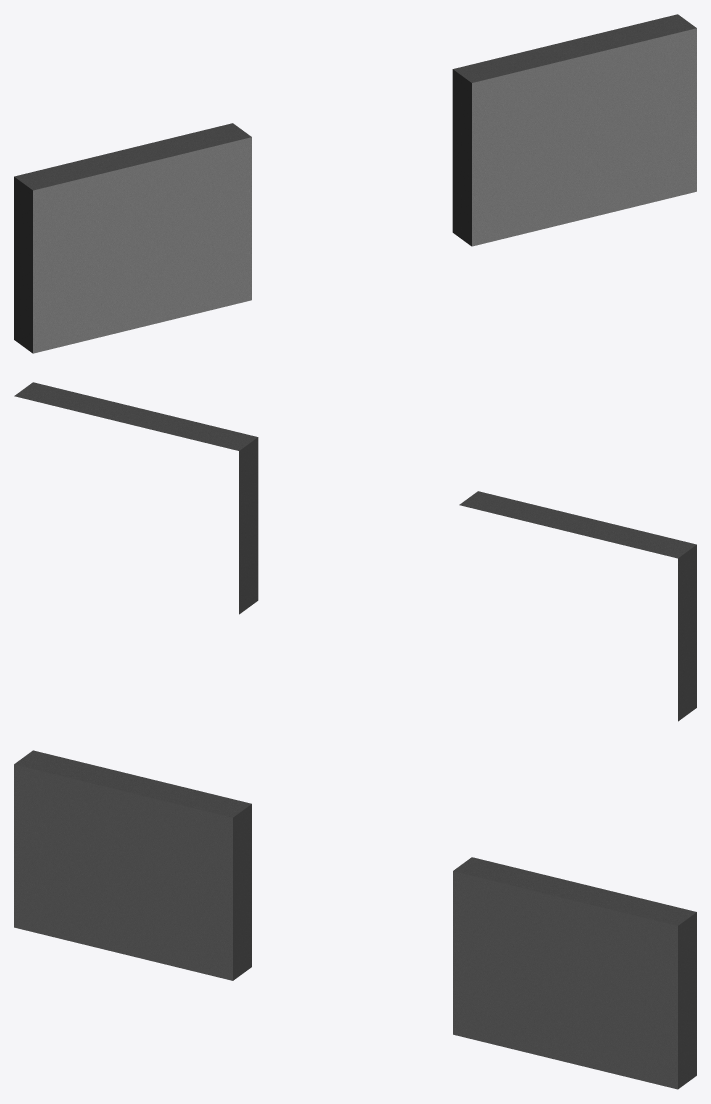
Rendered from jc-sj-725-geode.glb.
3 views of the same model, one above another, from view 1: azimuth 30°, elevation 25°; view 2: azimuth 150°, elevation 25°; view 3: azimuth 330°, elevation 25° (orthographic).
Parts seen in each view (by area): view 1: Node; view 2: Node; view 3: Node.
Part boxes in pixels (bbox=[...]): Node: bbox=[14, 14, 696, 353]; Node: bbox=[14, 382, 696, 721]; Node: bbox=[14, 750, 696, 1089].
Size of the model in its own units: 3.79 by 0.8915 by 0.1887.
Materials: 2 (2 with a texture image).
